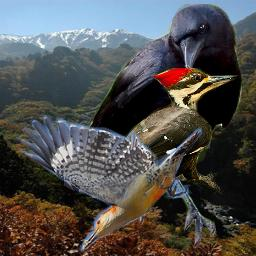Crow: (64, 4, 242, 248)
Woodpecker: (16, 115, 202, 253), (92, 68, 242, 199)
